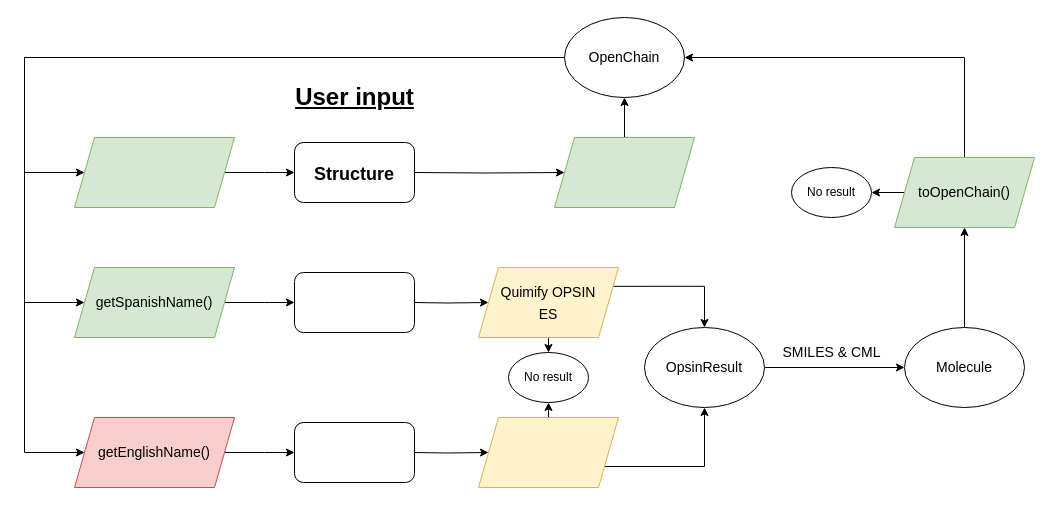
The diagram is 1052 pixels wide and 505 high, and some of its shapes have lost their labels. Here are the shapes that lost their labels. From the top down, the centre of each, then its label:
pixel 154 172: getStructure()
pixel 624 172: Builder
pixel 354 302: Spanish name
pixel 354 452: English name
pixel 548 452: Quimify OPSIN EN
